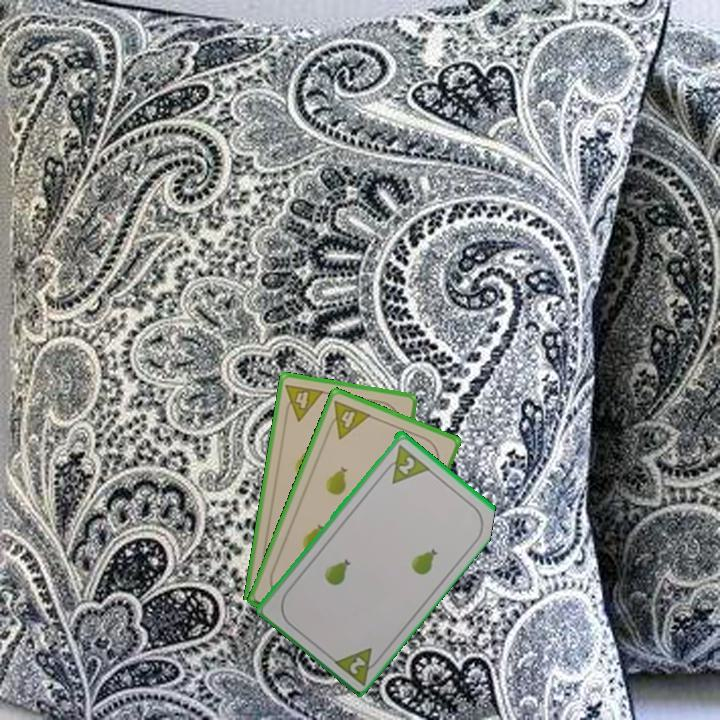2p: (329, 643, 385, 687), (378, 440, 431, 486)
4p: (322, 397, 374, 442), (280, 380, 327, 424)
